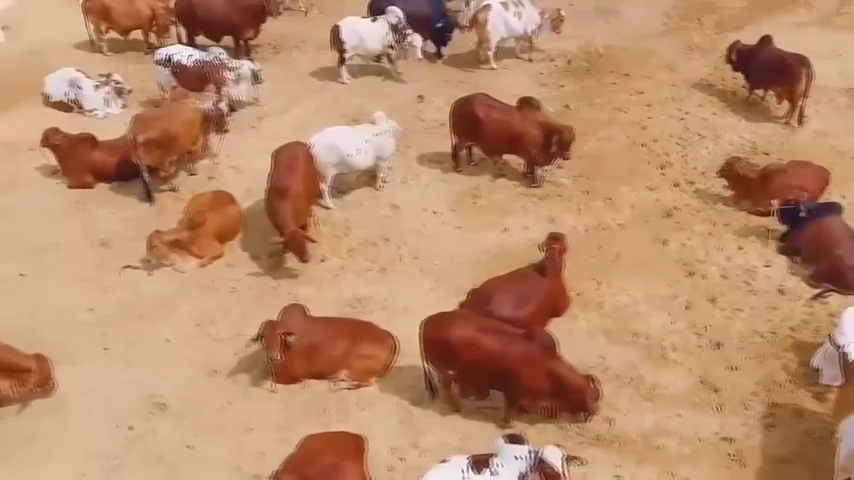bo: (412, 305, 609, 431), (248, 292, 416, 404), (431, 80, 584, 190), (458, 220, 594, 333), (116, 84, 238, 192), (761, 182, 854, 315), (397, 423, 608, 480), (19, 109, 140, 202), (706, 140, 840, 221), (137, 184, 251, 276), (307, 111, 409, 213), (141, 38, 273, 116), (308, 5, 429, 83), (260, 141, 328, 274), (720, 35, 822, 123), (469, 1, 575, 71), (35, 56, 137, 124), (169, 3, 290, 60), (73, 4, 183, 65), (268, 423, 385, 480), (367, 1, 461, 60), (801, 293, 854, 392), (821, 329, 854, 480)
